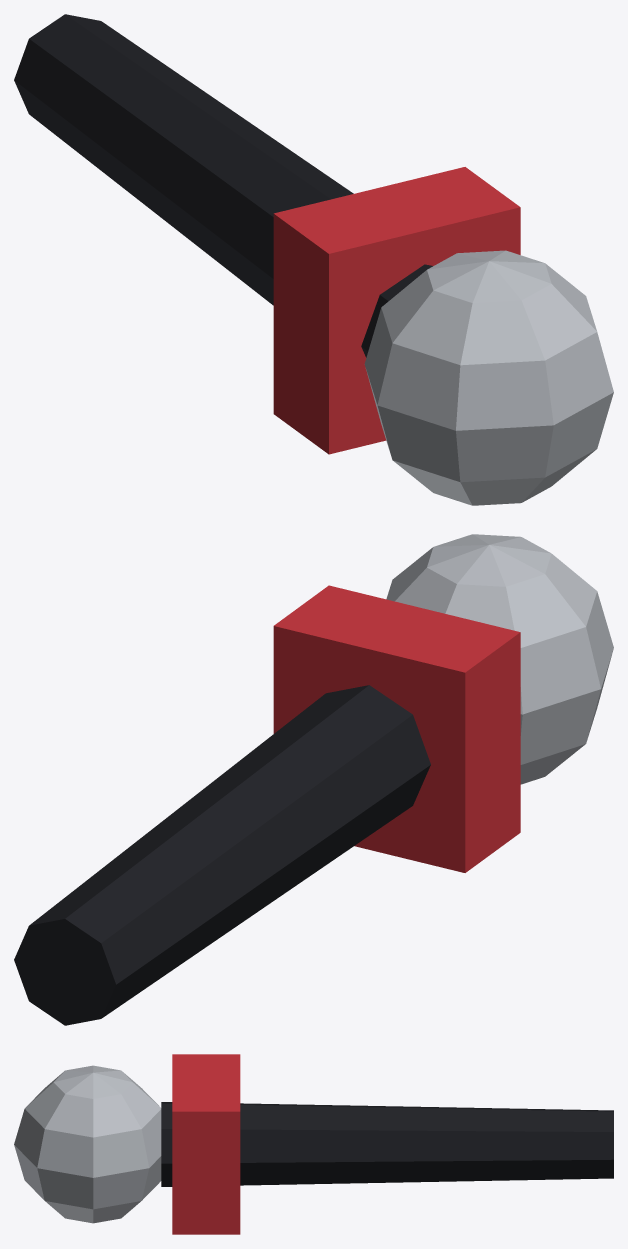
File: spare_mic.glb
3 views of the same model, one above another, from view 1: azimuth 30°, elevation 25°; view 2: azimuth 150°, elevation 25°; view 3: azimuth 270°, elevation 25° (orthographic). The views are drawn at different scales.
Parts seen in each view (by area): view 1: head_mic_mesh, body_tv_black, flag_tv_red; view 2: body_tv_black, flag_tv_red, head_mic_mesh; view 3: body_tv_black, head_mic_mesh, flag_tv_red.
Boxes of the visible parts, box(x1,y1,x2,y2) form: head_mic_mesh: box(364, 250, 613, 505); body_tv_black: box(14, 14, 432, 357); flag_tv_red: box(273, 167, 520, 454); body_tv_black: box(14, 685, 430, 1025); flag_tv_red: box(273, 585, 520, 872); head_mic_mesh: box(386, 534, 613, 784); body_tv_black: box(161, 1102, 613, 1186); head_mic_mesh: box(14, 1065, 161, 1223); flag_tv_red: box(172, 1054, 240, 1234).
Bounding box in the file's own units: 0.07 × 0.07 × 0.265.
